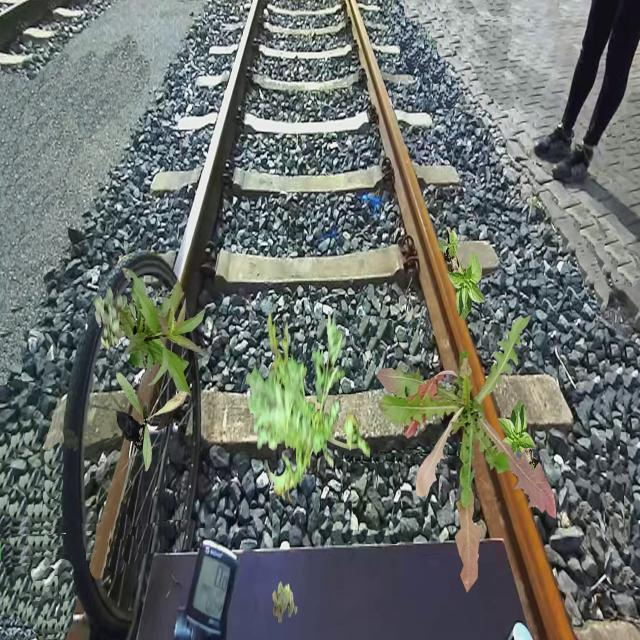Plant: (377, 315, 557, 593), (246, 308, 371, 504), (119, 267, 208, 397), (116, 372, 188, 472), (438, 227, 486, 322), (498, 400, 546, 495), (93, 286, 136, 352), (272, 581, 298, 624)
